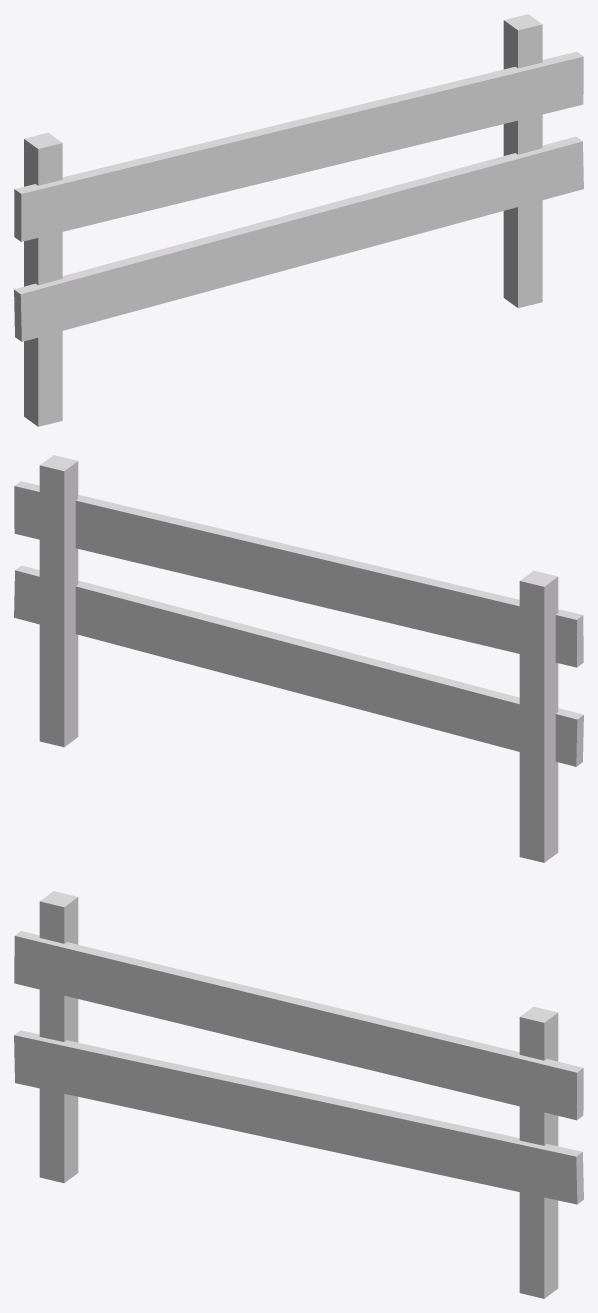
Rendered from SM_fence_011.obj.
3 views of the same model, one above another, from view 1: azimuth 30°, elevation 25°; view 2: azimuth 150°, elevation 25°; view 3: azimuth 330°, elevation 25° (orthographic).
Parts seen in each view (by area): view 1: SM_fence_011_M_Material; view 2: SM_fence_011_M_Material; view 3: SM_fence_011_M_Material.
Part boxes in pixels (box(x1,y1,x2,y2)): SM_fence_011_M_Material: box(14, 14, 583, 426); SM_fence_011_M_Material: box(14, 455, 583, 862); SM_fence_011_M_Material: box(14, 891, 583, 1298).
Size of the model in its own units: 2.35 by 1.1 by 0.1443.
1 material, 1 textured.
